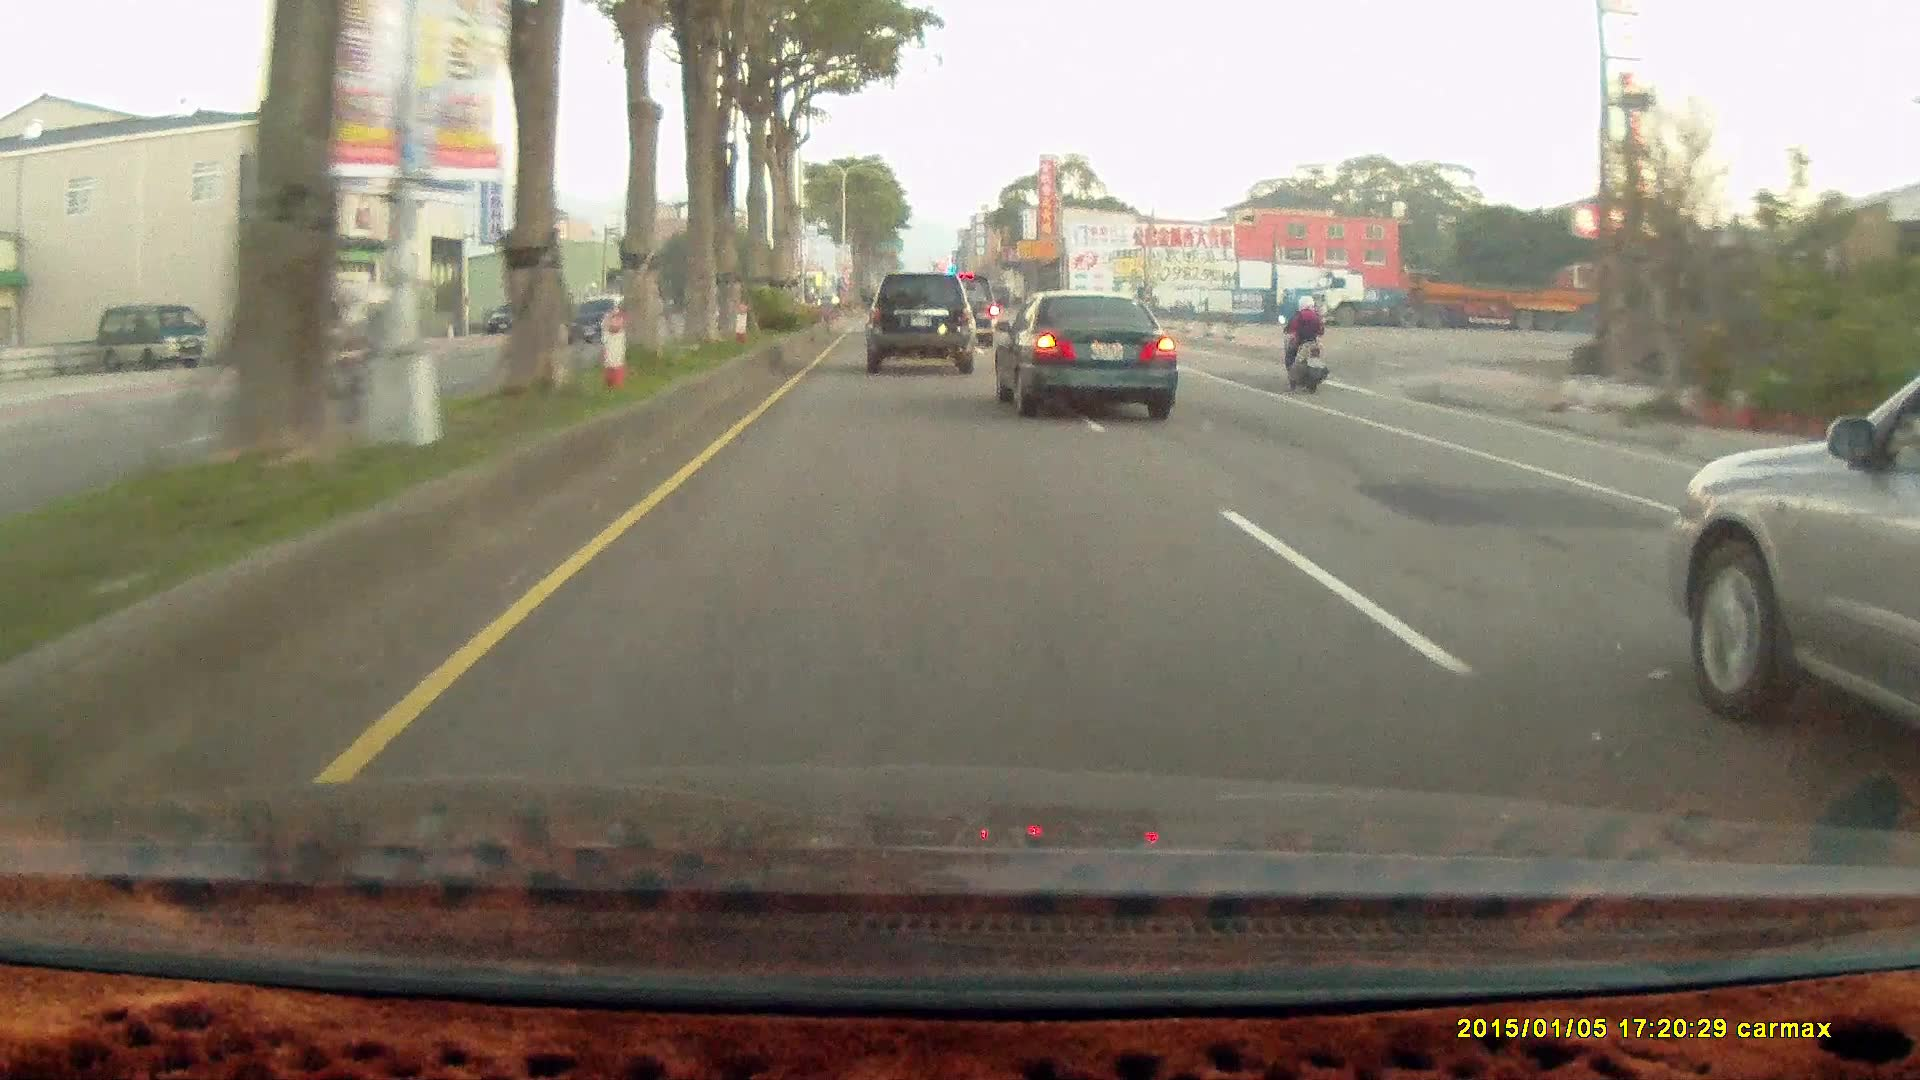rider: (1273, 288, 1337, 401), (1278, 286, 1330, 388)
vehicle: (1682, 365, 1920, 766), (210, 283, 406, 428), (990, 291, 1181, 419), (993, 286, 1177, 414), (1320, 267, 1590, 332), (866, 269, 979, 372), (864, 269, 976, 370), (96, 305, 210, 375), (94, 302, 208, 370), (929, 272, 1000, 347), (564, 291, 639, 344), (484, 295, 536, 331)
